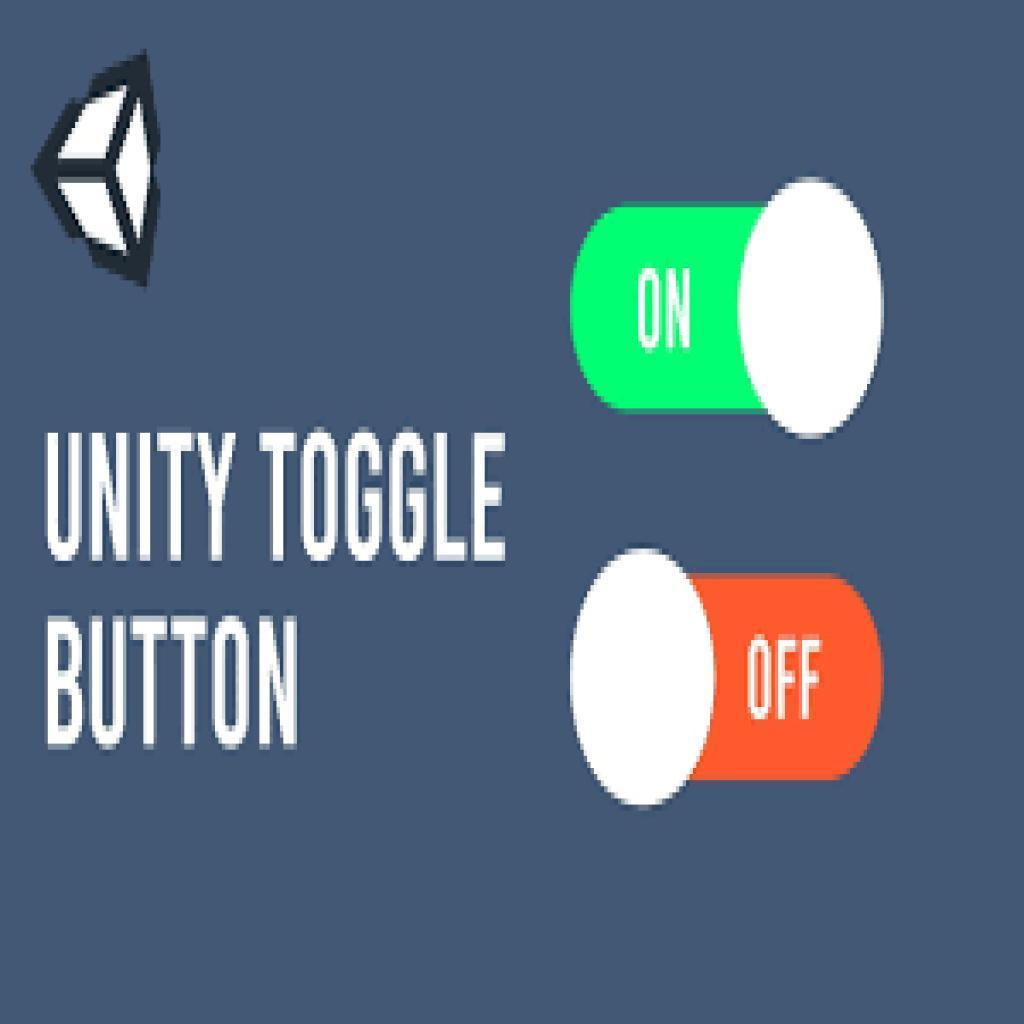switch: (569, 547, 886, 815), (569, 179, 886, 442)
